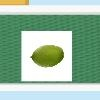ripe: (29, 44, 65, 70)
